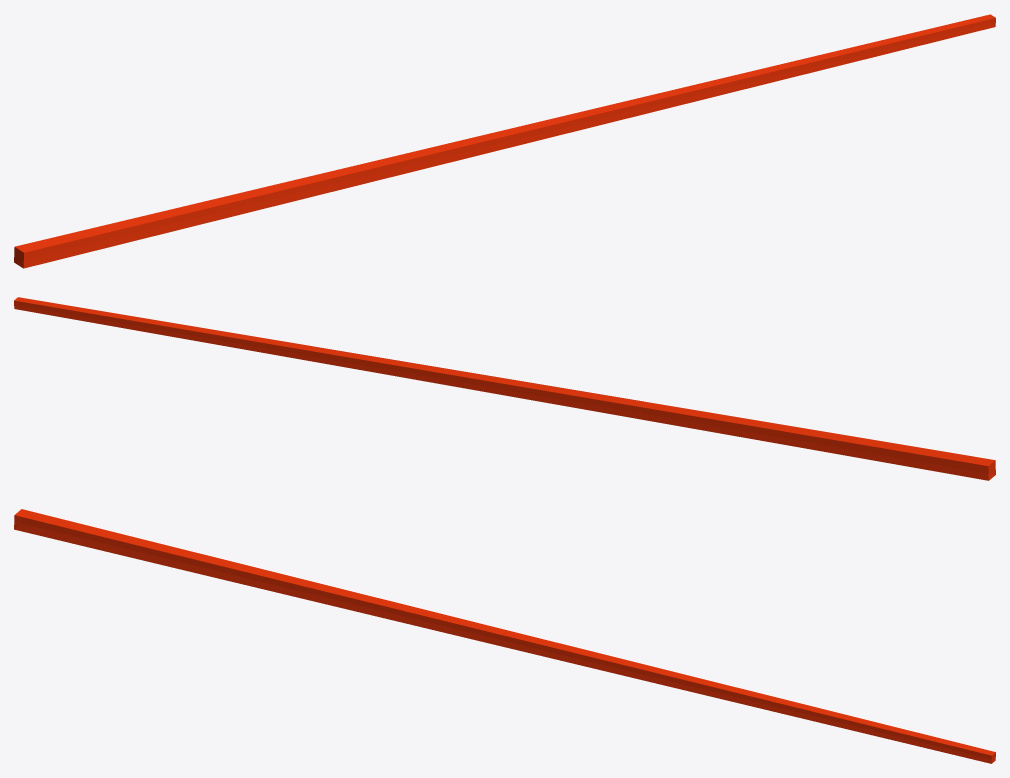
The model's file is Event_420604493_EErechit_22.fbx.
The picture shows the model from 3 angles, top to bottom: view 1: azimuth 30°, elevation 25°; view 2: azimuth 150°, elevation 25°; view 3: azimuth 330°, elevation 25°; orthographic projection. The views are drawn at different scales.
Parts seen in each view (by area): view 1: Model; view 2: Model; view 3: Model.
Boxes of the visible parts, bbox=[...] form: Model: bbox=[14, 14, 995, 268]; Model: bbox=[14, 297, 995, 480]; Model: bbox=[14, 509, 995, 763].
Size of the model in its own units: 8.55 by 0.4089 by 0.6636.
